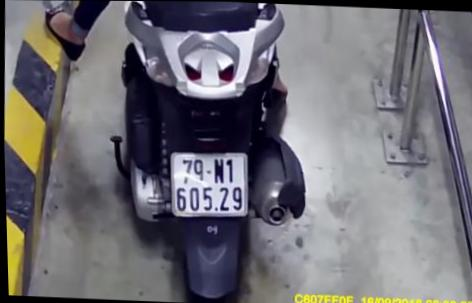LP: (166, 148, 249, 219)
